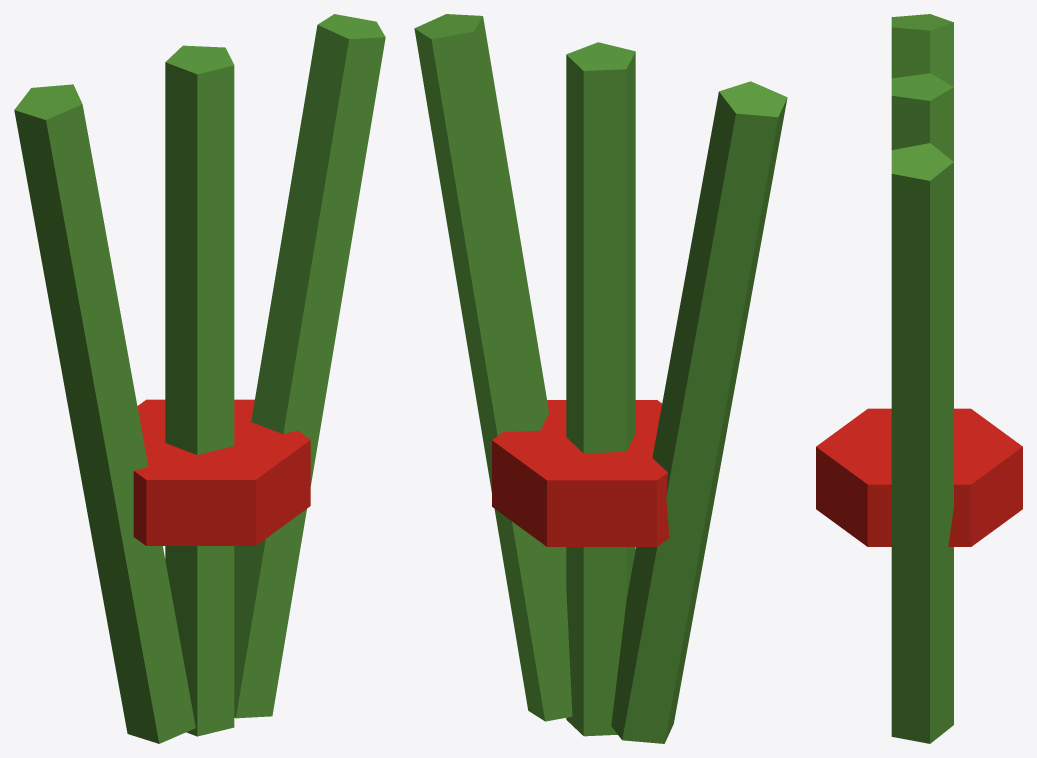
Rendered from herb_bundle.glb.
The picture shows the model from 3 angles, left to right: view 1: azimuth 30°, elevation 25°; view 2: azimuth 150°, elevation 25°; view 3: azimuth 270°, elevation 25°; orthographic projection. The views are drawn at different scales.
Visible parts, largest first — view 1: herb_bundle; view 2: herb_bundle; view 3: herb_bundle.
Boxes of the visible parts, box(x1,y1,x2,y2) form: herb_bundle: box(14, 14, 385, 743); herb_bundle: box(414, 14, 787, 743); herb_bundle: box(816, 14, 1022, 743).
Bounding box in the file's own units: 0.229 × 0.4003 × 0.12.
